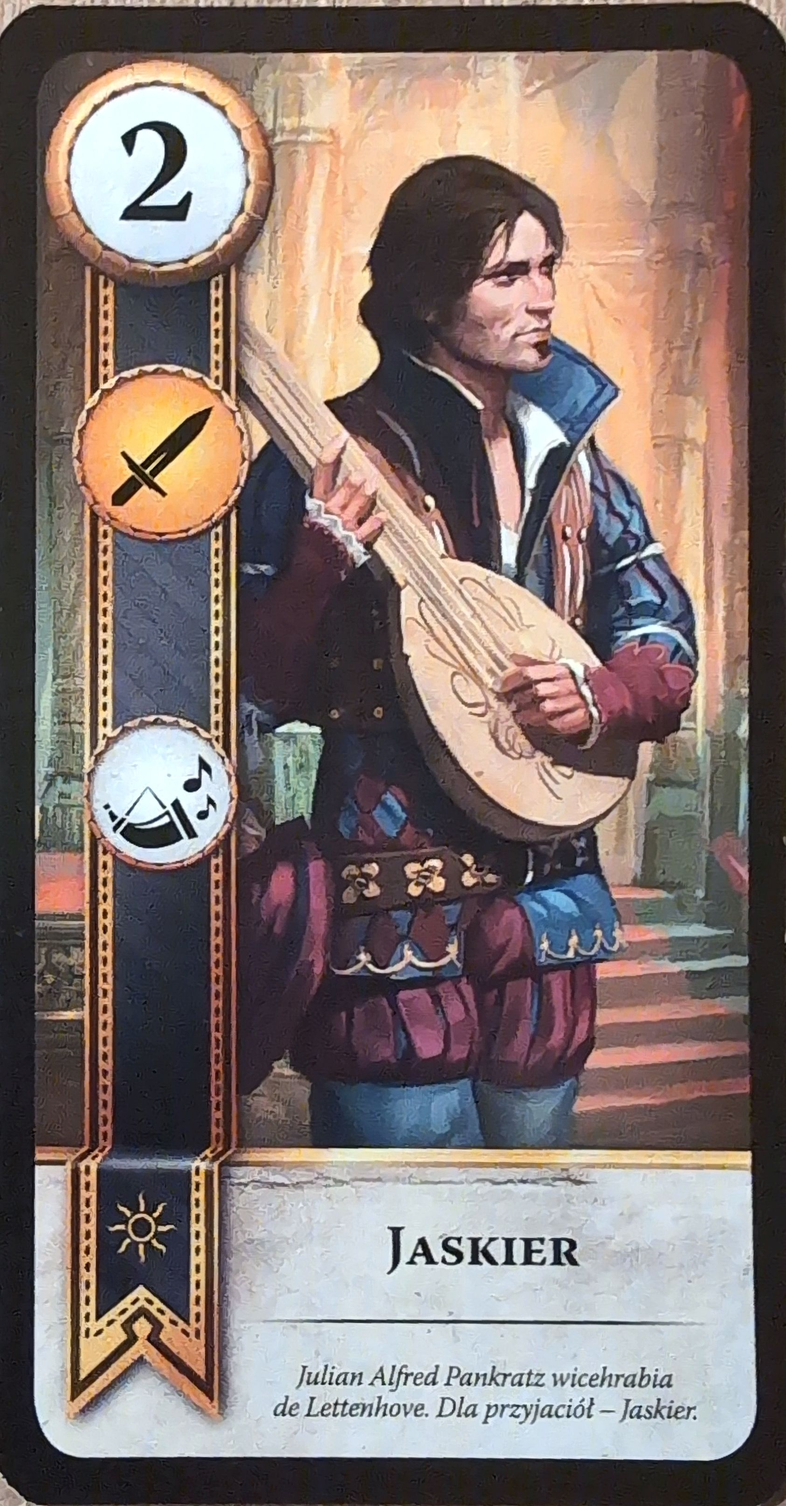2: (44, 59, 277, 286)
miecz: (71, 365, 253, 543)
rog: (83, 712, 236, 871)
